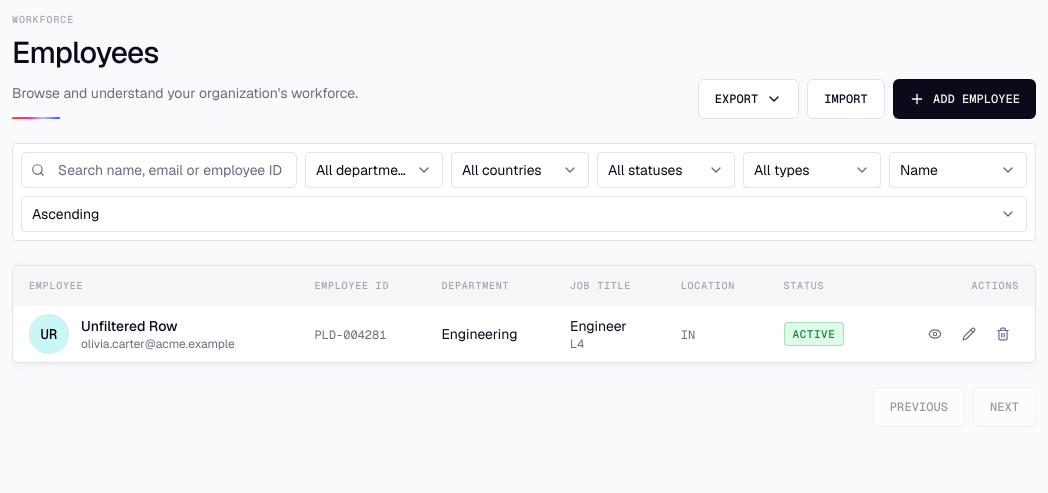
employee directory › does not reuse unfiltered rows for a pending search query
The image size is (1048, 493).
Expected: the text "Unfiltered Row" is shown, 81,317 -> 178,335
Type "engineering" into the field with placeholder "Search name, email or employee ID" at (159, 170), box 21,152 -> 297,188
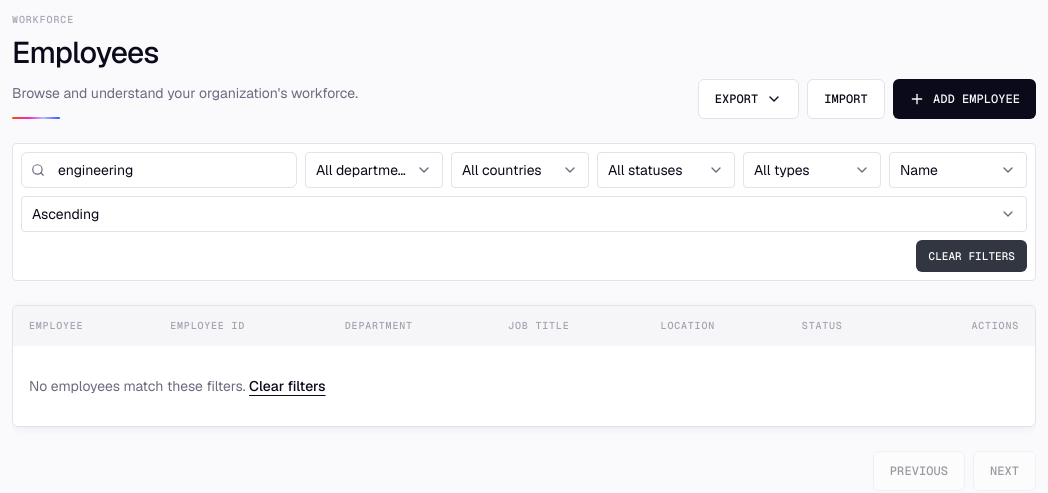
Expected: the link "Unfiltered Row" is gone
